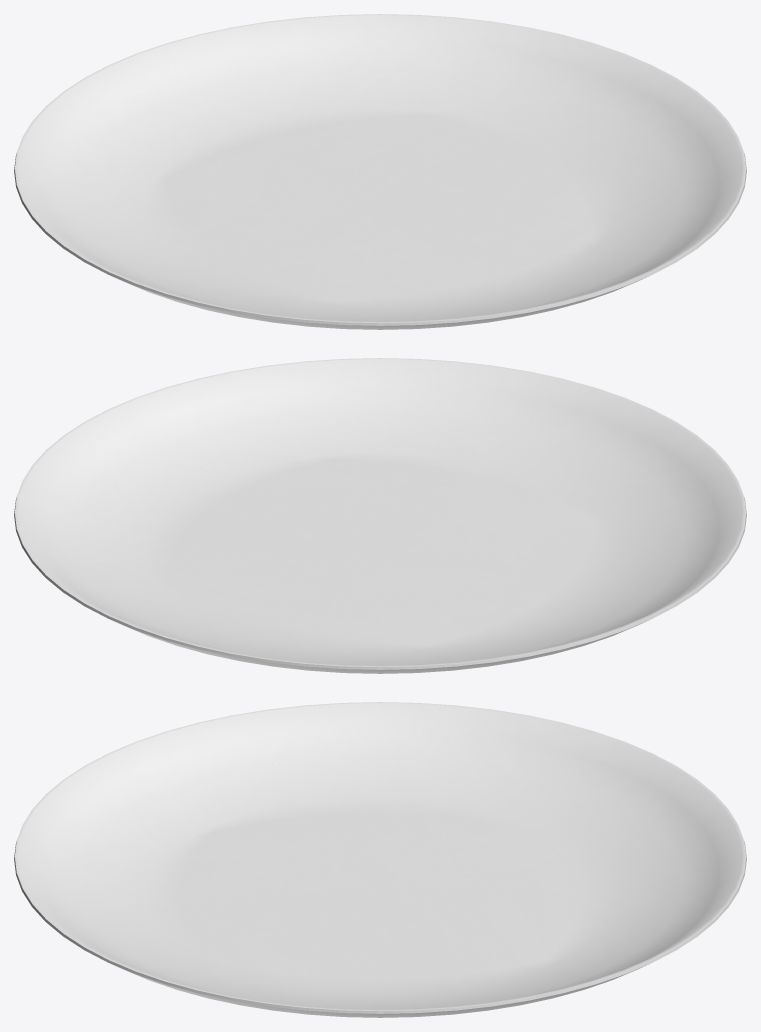
3 views of the same model, one above another, from view 1: azimuth 30°, elevation 25°; view 2: azimuth 150°, elevation 25°; view 3: azimuth 270°, elevation 25° (orthographic).
Parts seen in each view (by area): view 1: Plate; view 2: Plate; view 3: Plate.
Part boxes in pixels (box(x1,y1,x2,y2)): Plate: box(14, 14, 746, 329); Plate: box(14, 358, 746, 673); Plate: box(14, 702, 746, 1017).
Size of the model in its own units: 0.2116 by 0.0172 by 0.2116.
Materials: 1 (1 with a texture image).
